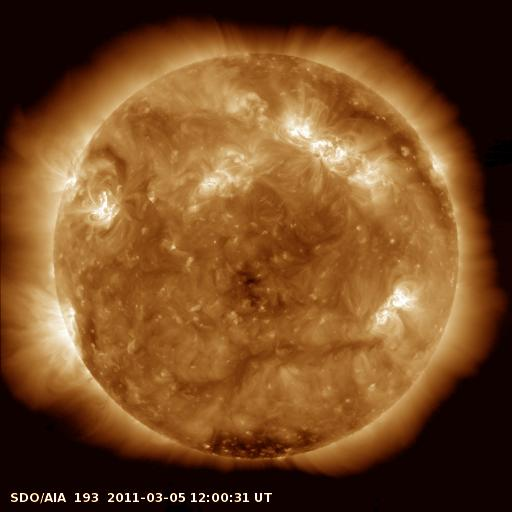coronal_hole: (318, 77, 455, 224), (197, 418, 319, 464)
